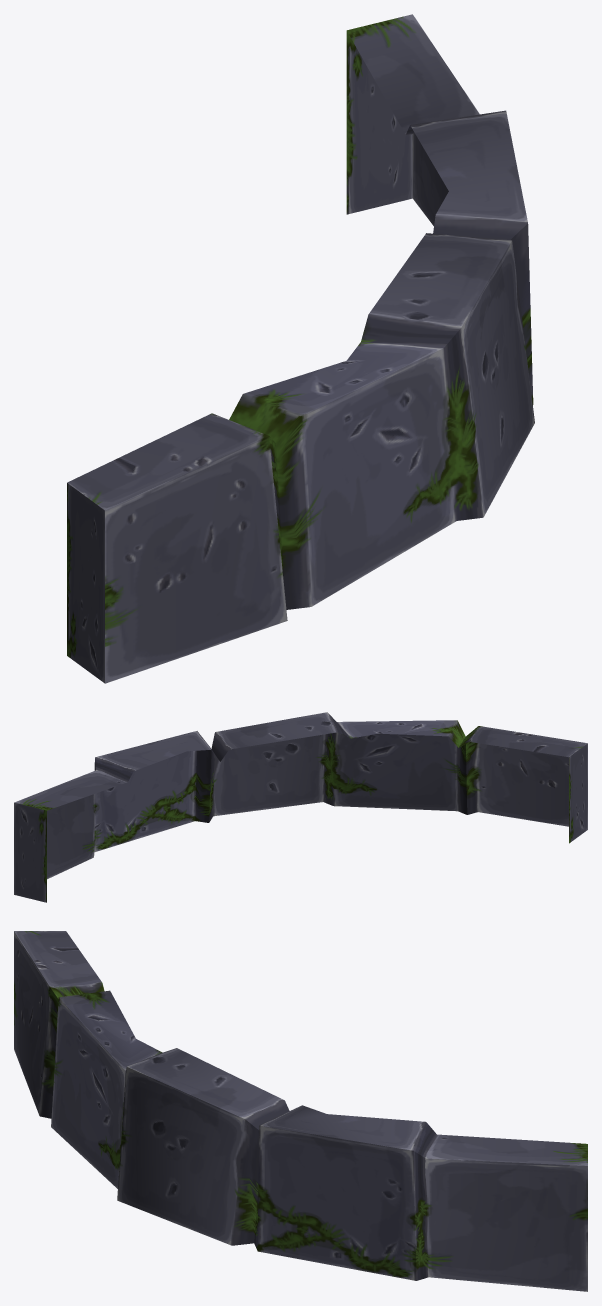
The model's file is MOD_WallTrim_01_O_convex_2.fbx.
3 views of the same model, one above another, from view 1: azimuth 30°, elevation 25°; view 2: azimuth 150°, elevation 25°; view 3: azimuth 270°, elevation 25° (orthographic). The views are drawn at different scales.
Parts seen in each view (by area): view 1: MOD_WallTrim_01_O_convex_2; view 2: MOD_WallTrim_01_O_convex_2; view 3: MOD_WallTrim_01_O_convex_2.
Boxes of the visible parts, left/top/right/bottom form: MOD_WallTrim_01_O_convex_2: left=67, top=14, right=534, bottom=683; MOD_WallTrim_01_O_convex_2: left=14, top=712, right=587, bottom=902; MOD_WallTrim_01_O_convex_2: left=14, top=931, right=587, bottom=1291.
Size of the model in its own units: 220 by 54.84 by 220.
